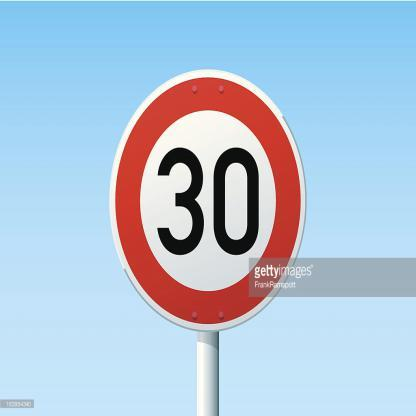Speed Limit 30: (111, 68, 305, 332)
